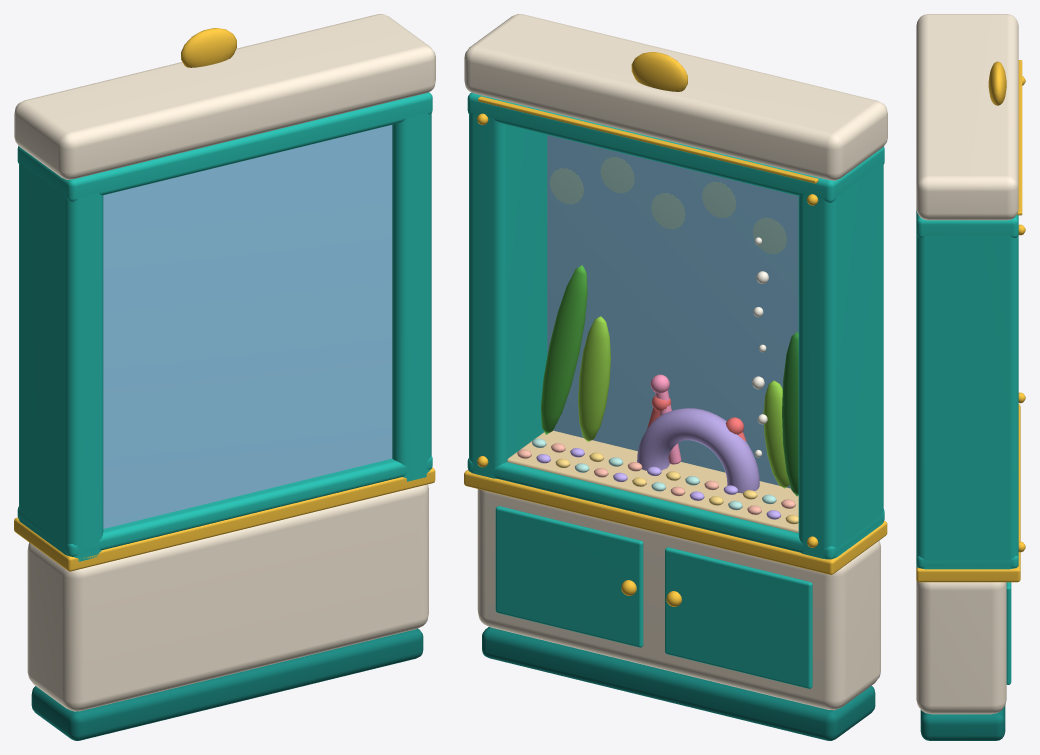
File: FeatureTank.fbx
3 renders of one model, left to right at view 1: azimuth 30°, elevation 25°; view 2: azimuth 150°, elevation 25°; view 3: azimuth 270°, elevation 25°, orthographic. The views are drawn at different scales.
Visible parts, largest first — view 1: FeatureTank mesh; view 2: FeatureTank mesh; view 3: FeatureTank mesh.
Boxes of the visible parts, bbox=[...] form: FeatureTank mesh: bbox=[14, 14, 435, 740]; FeatureTank mesh: bbox=[464, 14, 887, 740]; FeatureTank mesh: bbox=[916, 14, 1025, 740].
Bounding box in the file's own units: 1.34 × 2.19 × 0.363.
